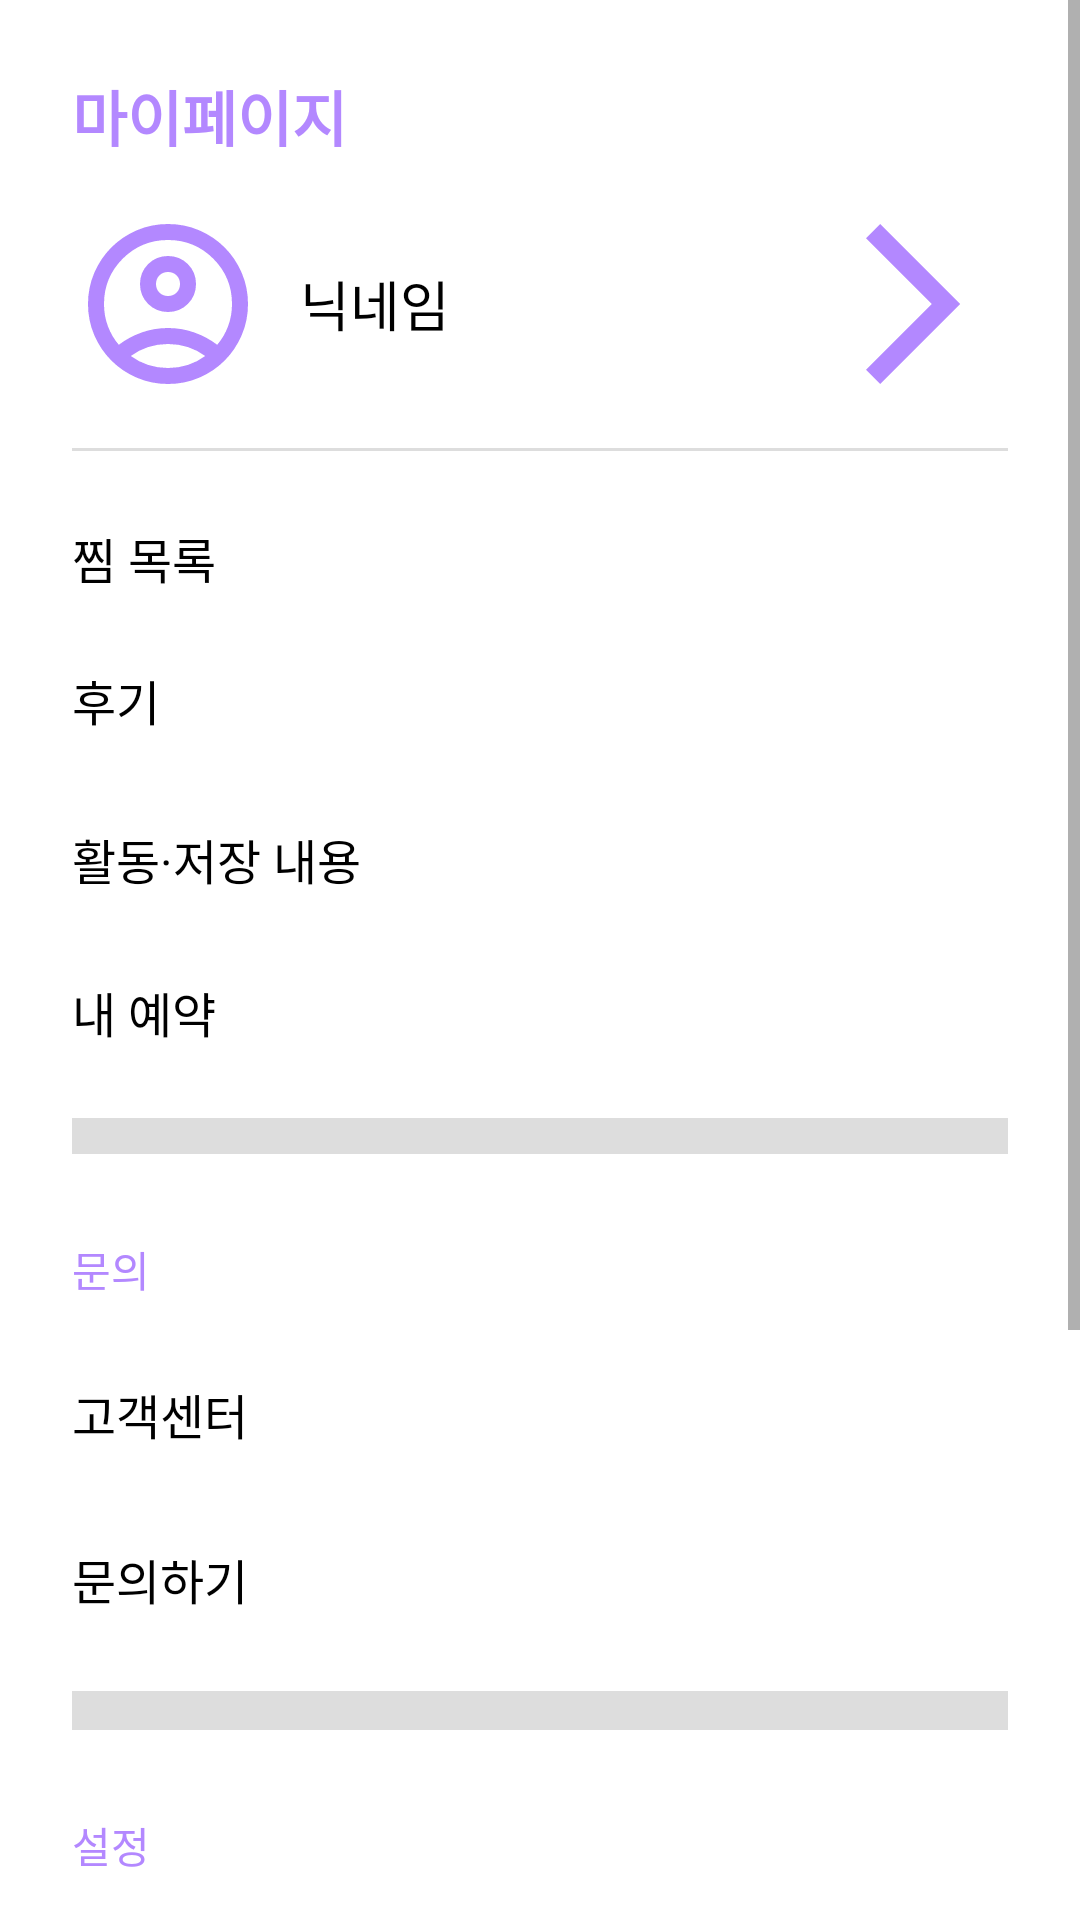

Named icons in this screenshot (1080 x 1920) and their centers, (x,y):
mypage: (168,304)
next: (913,304)
